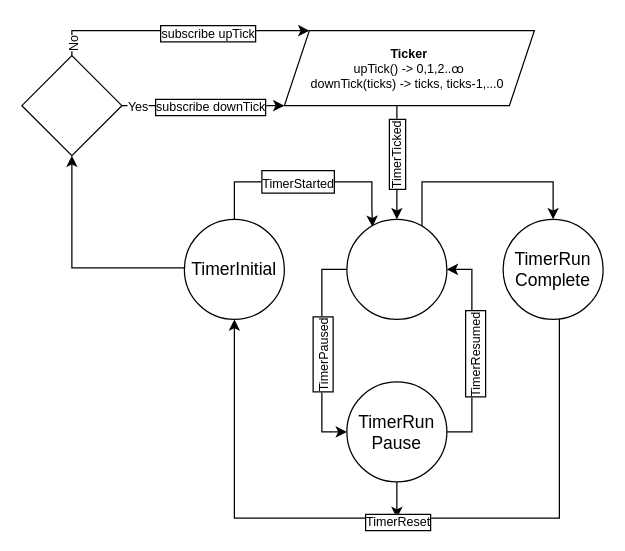
Some shapes in this 625 by 551 pixel diagram are drawn without their labels. The shapes that lost their labels are listed below. From the top down, each one's centre as x and y in pixels, then its label:
At (x=71, y=105): "TimerMode is Stopwatch?".
At (x=396, y=268): "TimerRun InProgress".
